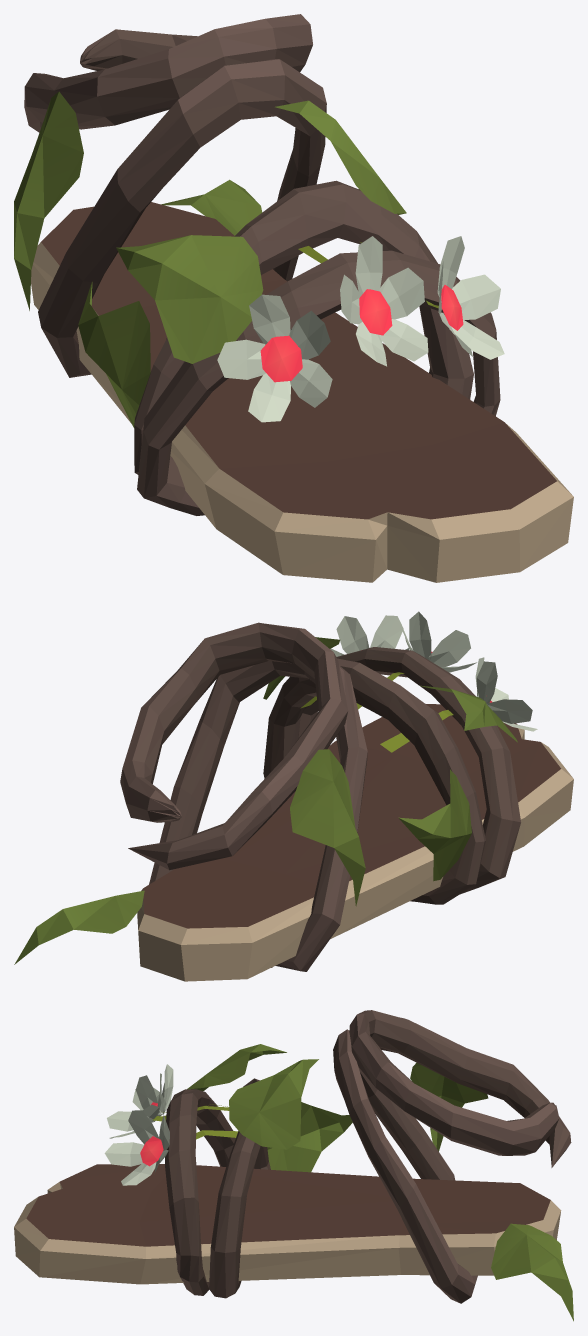
The model's file is flowerSandalFemale.glb.
3 renders of one model, top to bottom at view 1: azimuth 30°, elevation 25°; view 2: azimuth 150°, elevation 25°; view 3: azimuth 270°, elevation 25°, orthographic. The views are drawn at different scales.
Visible parts, largest first — view 1: flowerSandal; view 2: flowerSandal; view 3: flowerSandal.
Boxes of the visible parts, x1,y1,x2,y2 form: flowerSandal: [14, 14, 573, 582]; flowerSandal: [14, 611, 573, 981]; flowerSandal: [14, 1010, 573, 1321].
Bounding box in the file's own units: 0.1363 × 0.1344 × 0.2614.
